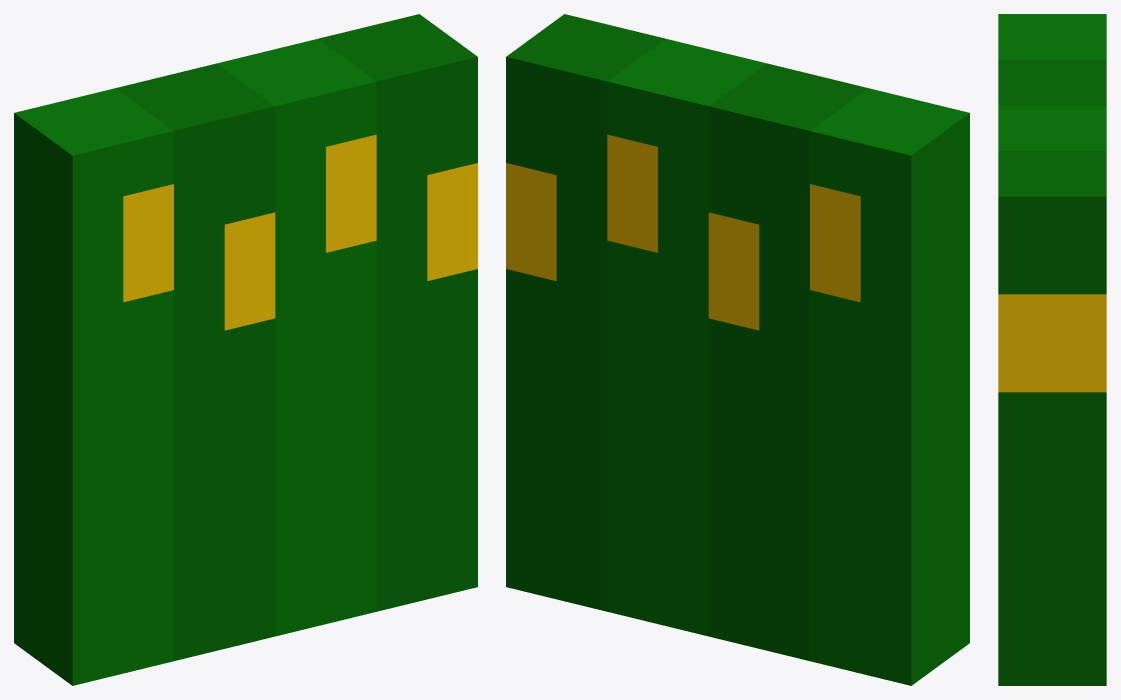
The model's file is ThirdWall-1.obj.
3 renders of one model, left to right at view 1: azimuth 30°, elevation 25°; view 2: azimuth 150°, elevation 25°; view 3: azimuth 270°, elevation 25°, orthographic. The views are drawn at different scales.
Visible parts, largest first — view 1: ThirdWall-1; view 2: ThirdWall-1; view 3: ThirdWall-1.
Part boxes in pixels (<box>): ThirdWall-1: <box>14,14,477,685</box>; ThirdWall-1: <box>506,14,969,685</box>; ThirdWall-1: <box>998,14,1106,685</box>.
Size of the model in its own units: 8 by 10 by 2.
Materials: 1 (1 with a texture image).
